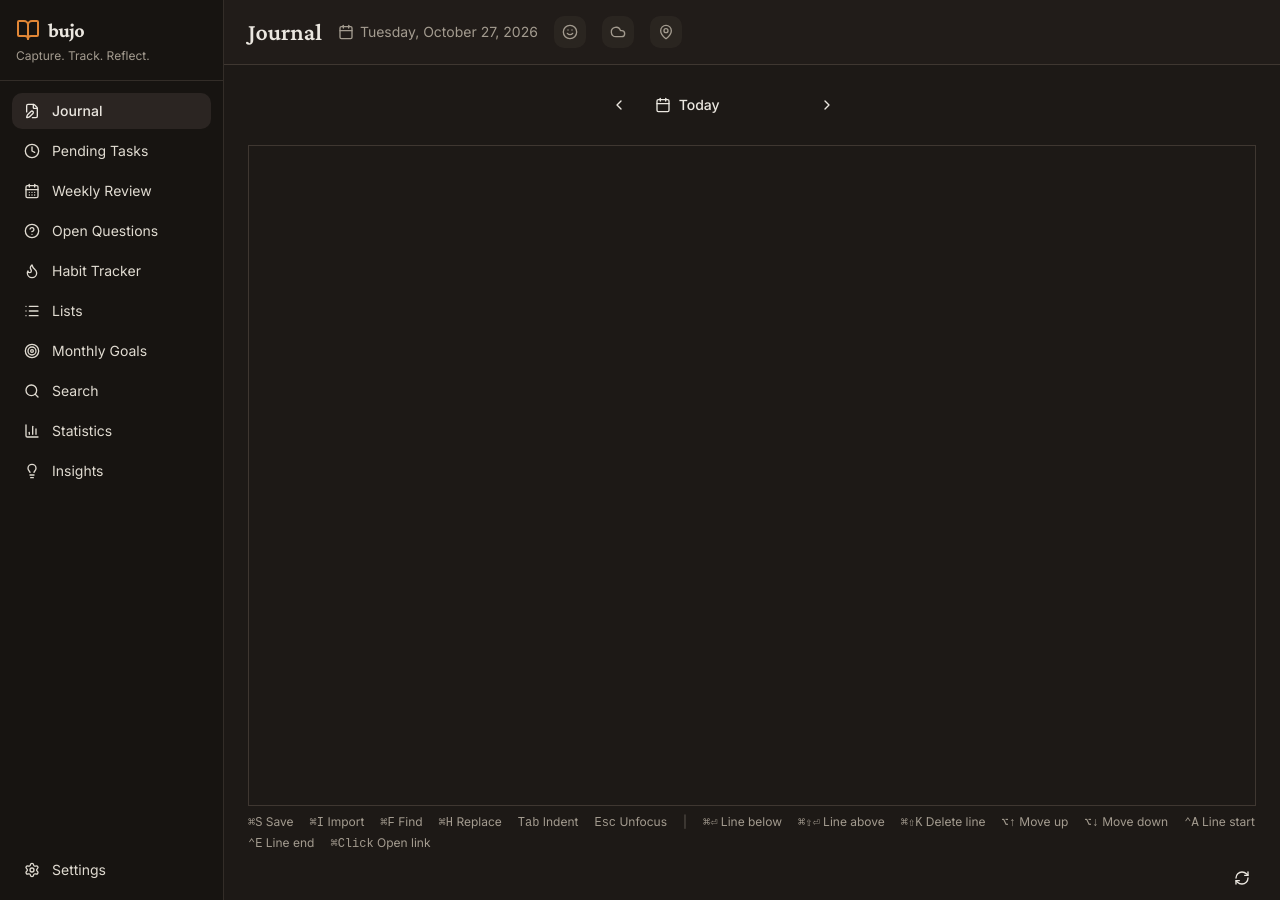
Test case: App - Navigation History › back button on journal after weekly review double-click › shows back button on journal view after double-clicking an entry in weekly review
The width and height of the screenshot is (1280, 900).
# Navigate to weekly review
Step 1. Click the button "Weekly Review" → (112, 191), box left=12, top=173, right=211, bottom=209
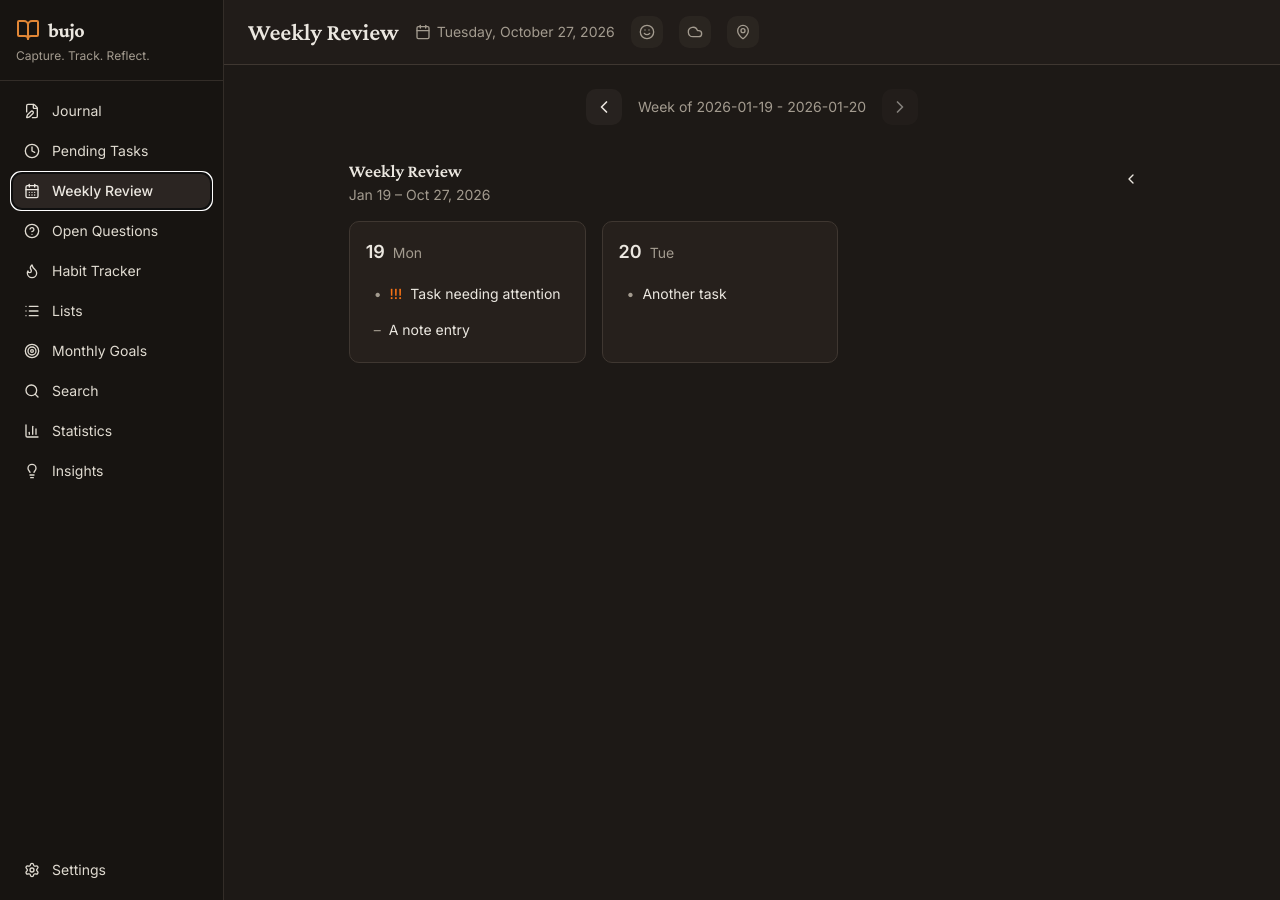
Expected: the text "Jan 19 – Oct 27, 2026" is shown, left=349, top=186, right=490, bottom=203
# Double-click an entry in the weekly review to navigate to journal
Step 2. Double-click the text "Task needing attention" → (486, 294), box left=410, top=284, right=561, bottom=304
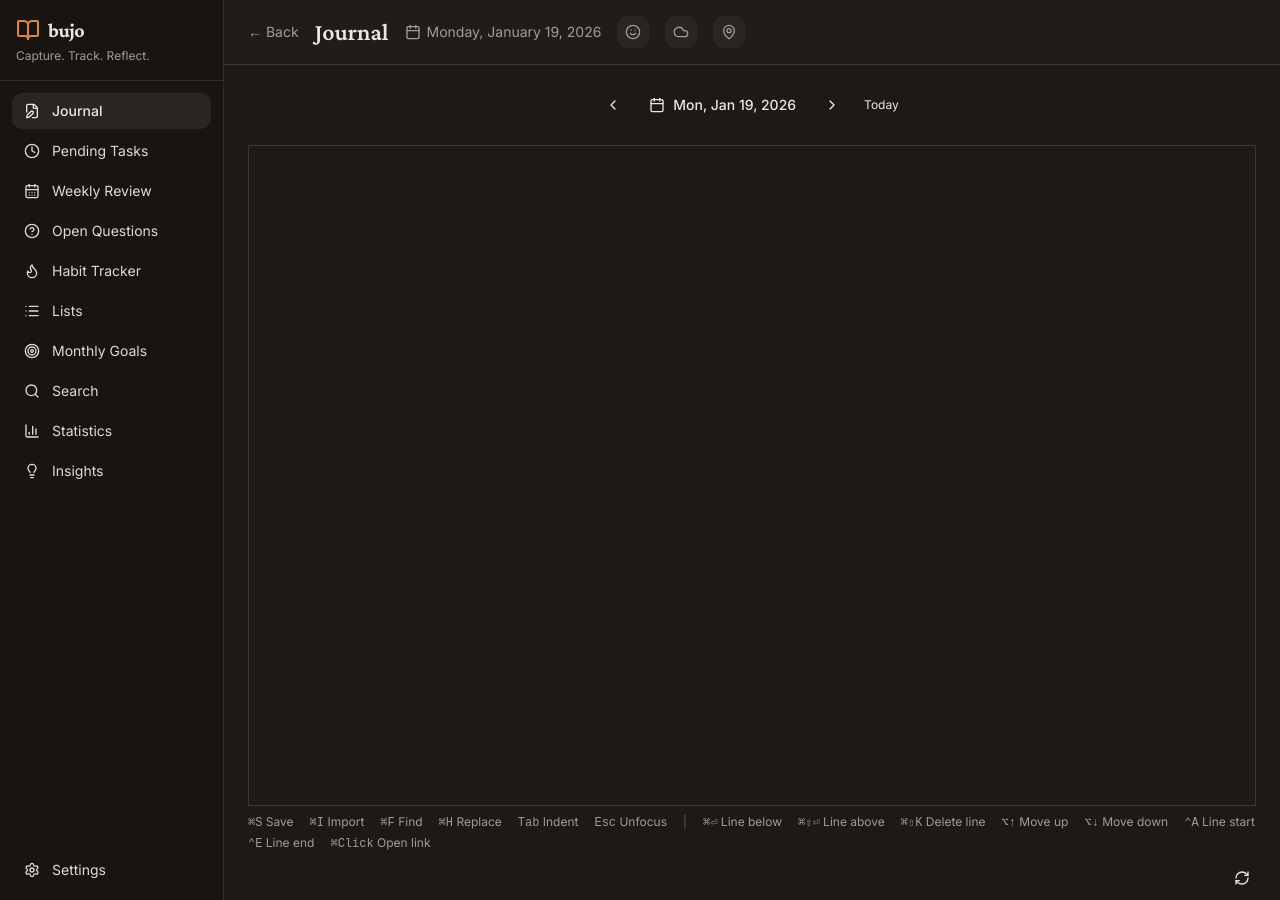
Expected: the field is shown, left=265, top=146, right=1255, bottom=805
Expected: the button with aria-label "go back" is shown, left=248, top=22, right=299, bottom=42
